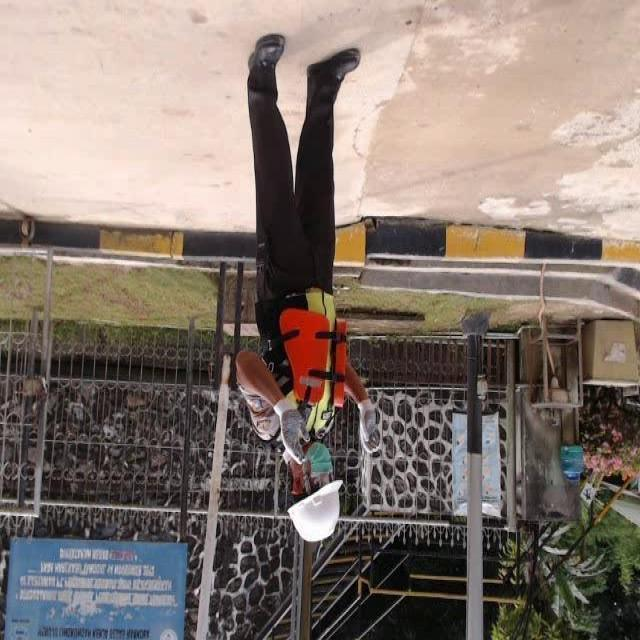gloves: (275, 394, 311, 469), (357, 396, 383, 459)
mask: (308, 444, 336, 476)
